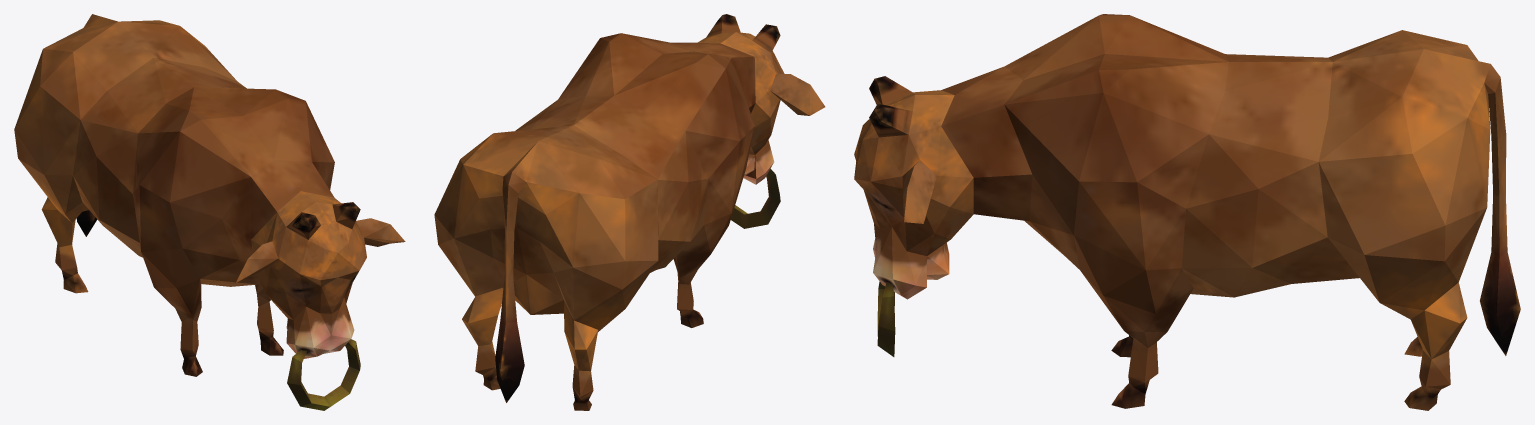
The model's file is cow.glb.
The picture shows the model from 3 angles, left to right: view 1: azimuth 30°, elevation 25°; view 2: azimuth 150°, elevation 25°; view 3: azimuth 270°, elevation 25°; orthographic projection. The views are drawn at different scales.
Visible parts, largest first — view 1: cow; view 2: cow; view 3: cow.
Part boxes in pixels (x1,y1,x2,y2): cow: (14,14,405,410); cow: (434,14,825,410); cow: (854,14,1520,410).
Bounding box in the file's own units: 3.95 × 5.07 × 9.14.
Materials: 1 (1 with a texture image).
